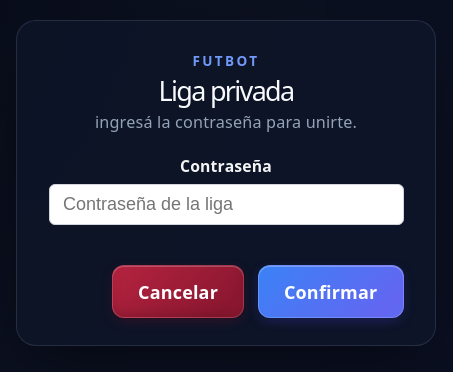
Test: VerifyLeaguePasswordPage › no llama al endpoint si el campo está vacío
Step 1. Click the button "Confirmar" → {"x": 331, "y": 292}, box [258,265,404,318]
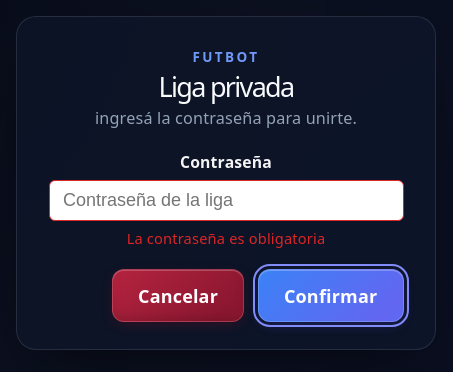
Now the text "La contraseña es obligatoria" is shown, box [127,228,325,248]
